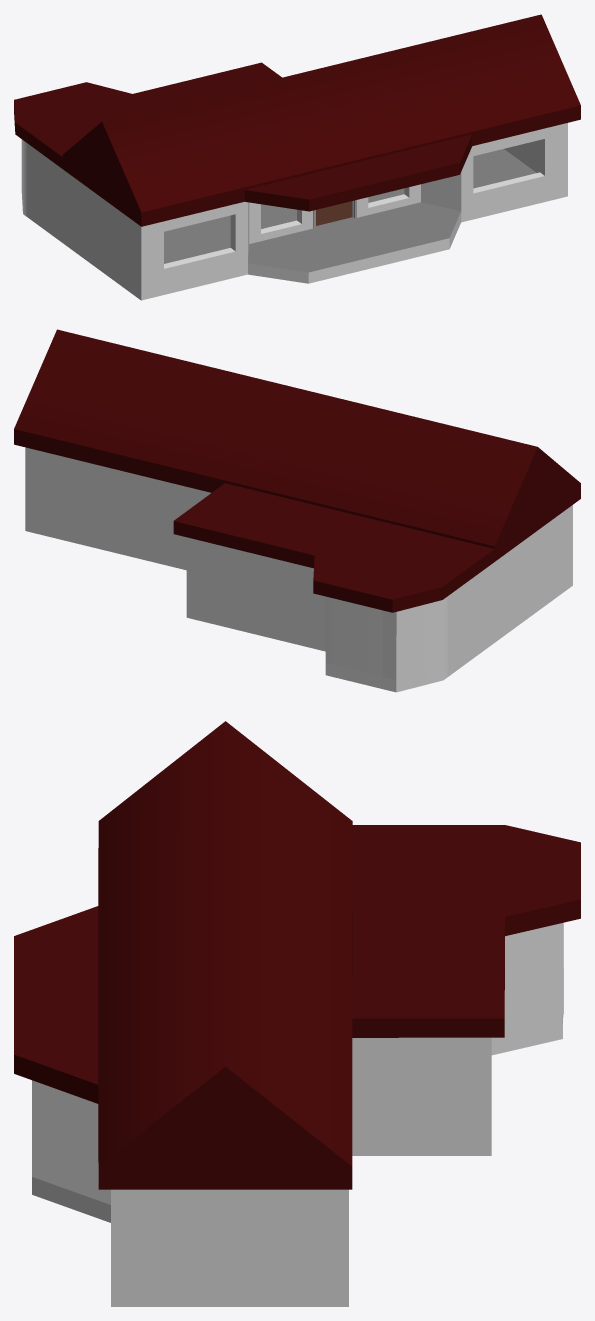
File: House with Texture.fbx
The picture shows the model from 3 angles, top to bottom: view 1: azimuth 30°, elevation 25°; view 2: azimuth 150°, elevation 25°; view 3: azimuth 270°, elevation 25°; orthographic projection. The views are drawn at different scales.
Parts seen in each view (by area): view 1: polySurface3, Door; view 2: polySurface3; view 3: polySurface3.
Boxes of the visible parts, box(x1,y1,x2,y2) form: polySurface3: box(14, 14, 580, 300); Door: box(316, 201, 352, 225); polySurface3: box(14, 329, 580, 692); polySurface3: box(14, 721, 580, 1306).
Bounding box in the file's own units: 2060 × 689 × 1429.
